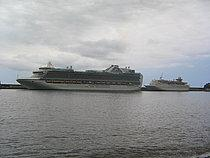Ship: (17, 65, 141, 96), (150, 75, 193, 94)
